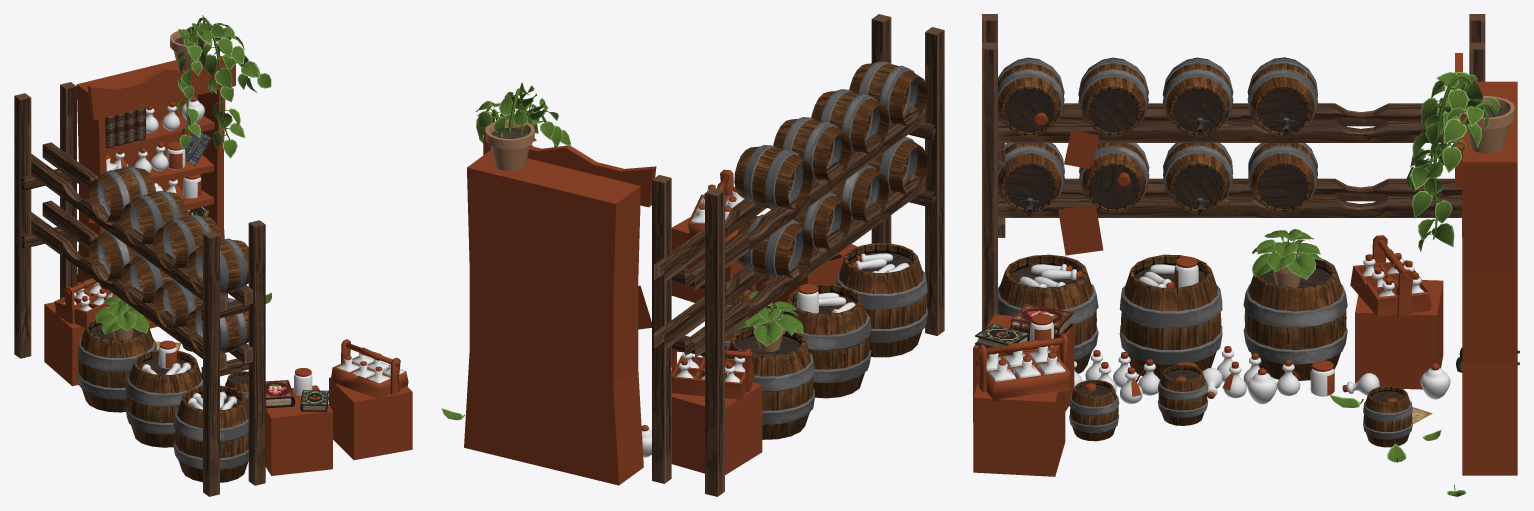
File: Counter_Sell.fbx
The picture shows the model from 3 angles, left to right: view 1: azimuth 30°, elevation 25°; view 2: azimuth 150°, elevation 25°; view 3: azimuth 270°, elevation 25°; orthographic projection. The views are drawn at different scales.
Visible parts, largest first — view 1: Counter_Sell; view 2: Counter_Sell; view 3: Counter_Sell.
Boxes of the visible parts, left/top/right/bottom form: Counter_Sell: left=14, top=15, right=412, bottom=496; Counter_Sell: left=441, top=14, right=944, bottom=496; Counter_Sell: left=973, top=14, right=1519, bottom=496.
Bounding box in the file's own units: 487 × 552 × 706.
